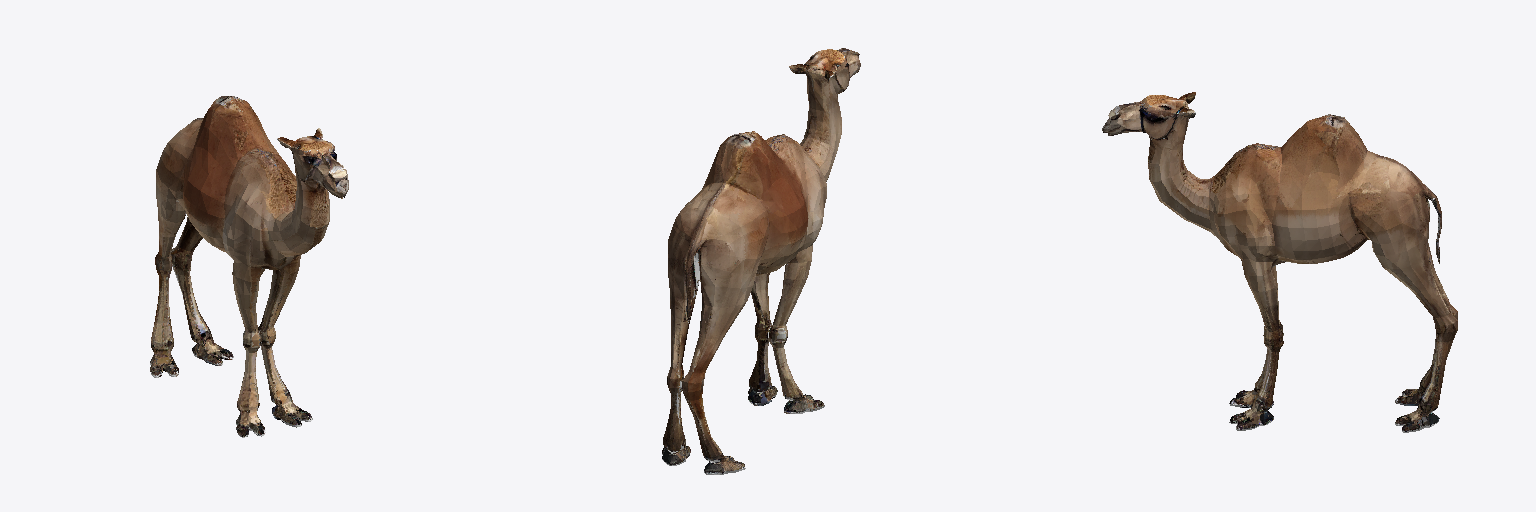
The picture shows the model from 3 angles: view 1: azimuth 30°, elevation 25°; view 2: azimuth 150°, elevation 25°; view 3: azimuth 270°, elevation 25°; orthographic projection.
Bounding box in the file's own units: 0.308 × 0.9749 × 1.
Materials: 1 (1 with a texture image).